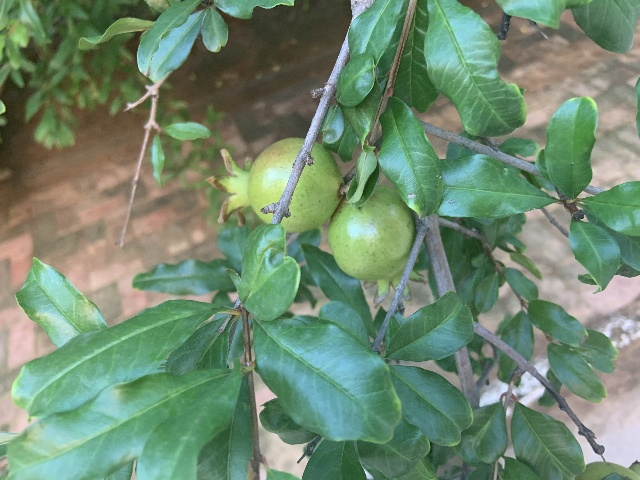mid-growth: (205, 137, 343, 233), (327, 185, 427, 309)
